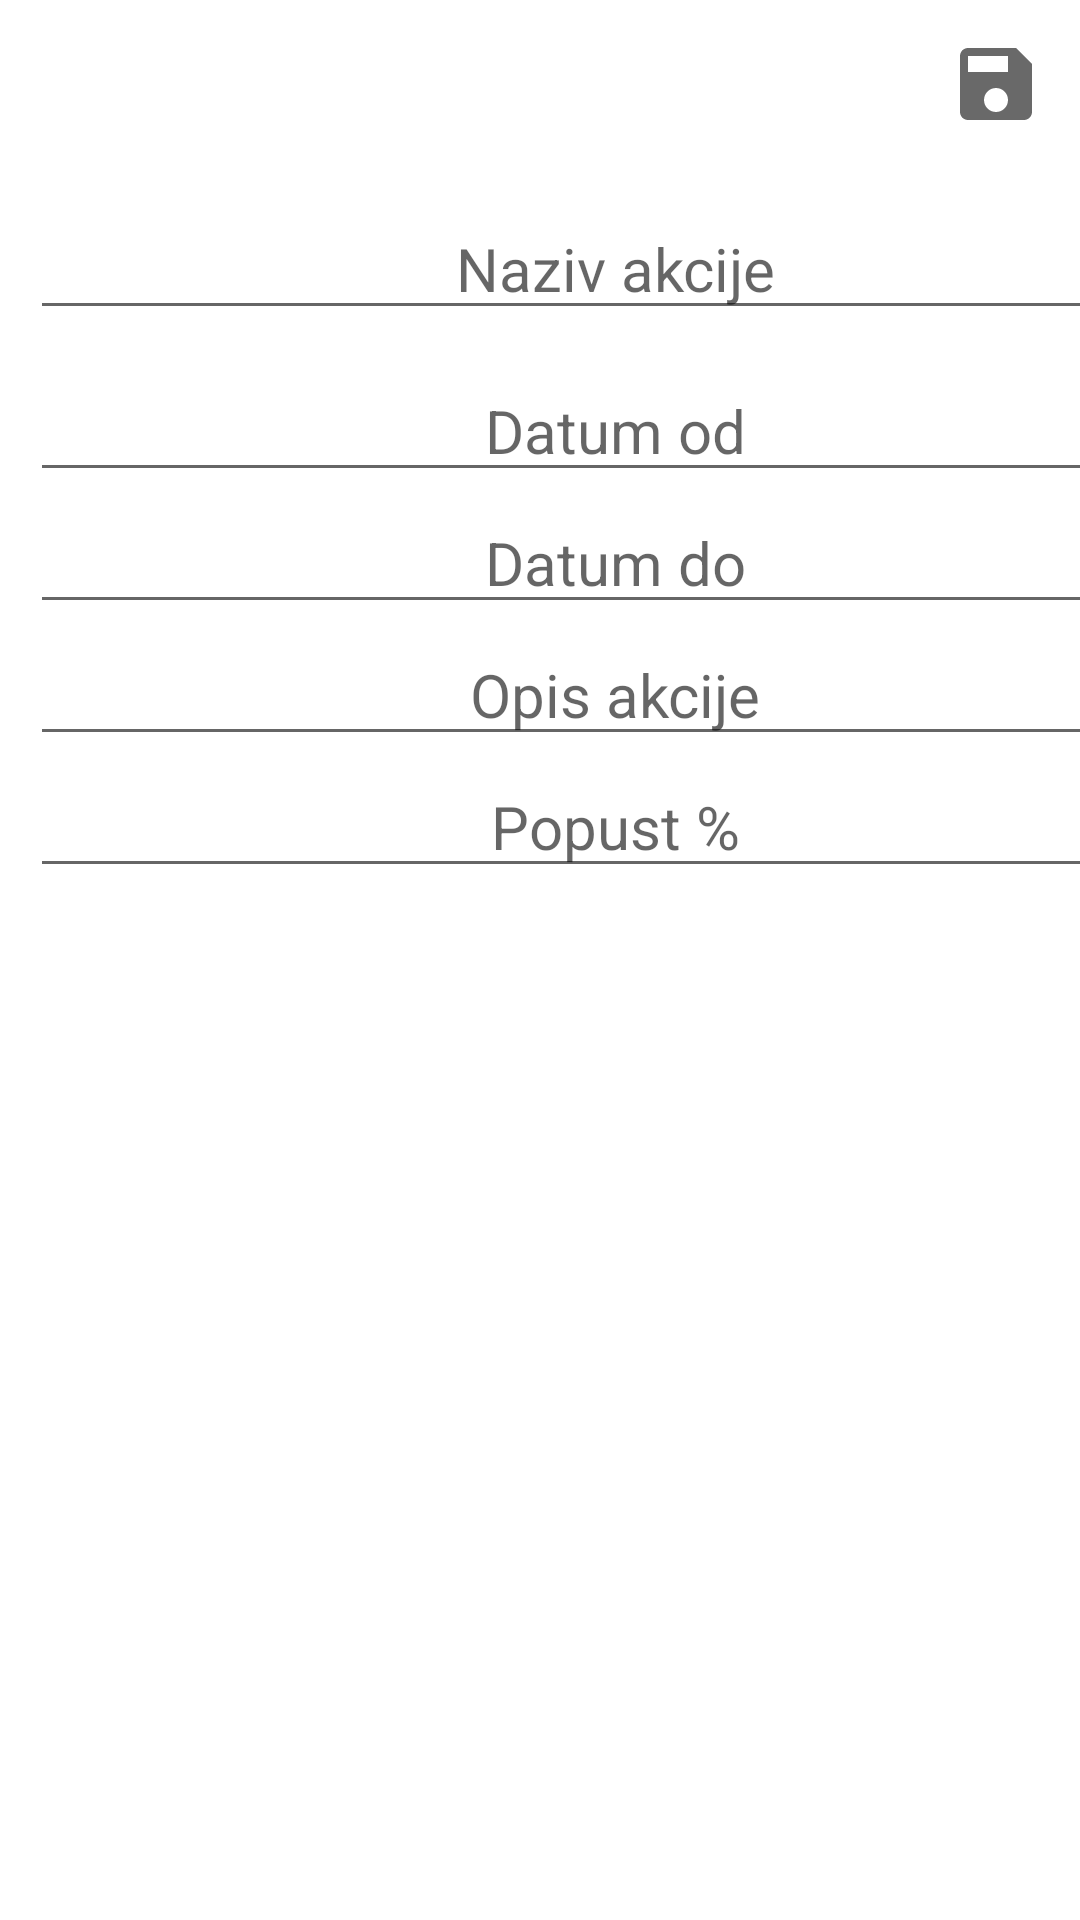

Screen size 1080×1920. Icon name, then its center in pixels as [x,y]:
save: [996,84]
